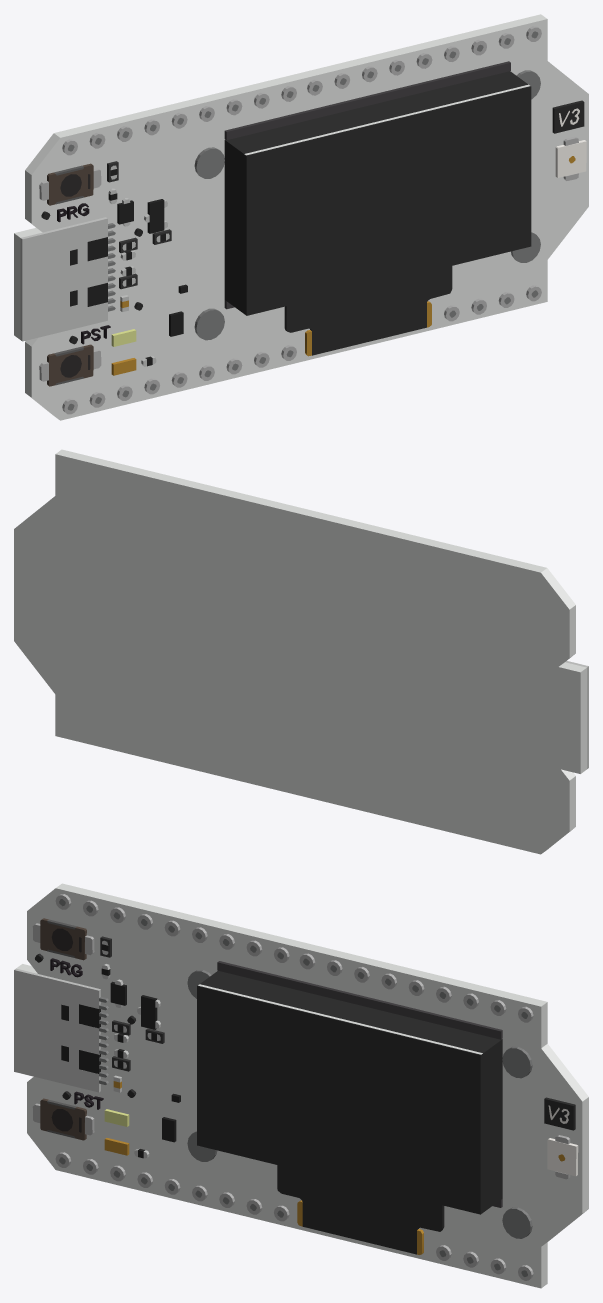
File: heltec-v3.glb
The picture shows the model from 3 angles, top to bottom: view 1: azimuth 30°, elevation 25°; view 2: azimuth 150°, elevation 25°; view 3: azimuth 330°, elevation 25°; orthographic projection.
Visible parts, largest first — view 1: Body, Screen, Face_2b2b2b, Face_cbcccb, Display, Face_b7b7b7, Face_808181, Face_434143, Face_232323, Face_574841, Face_fdfaf5, Face_2d2c2b (+4 smaller); view 2: Body; view 3: Body, Screen, Face_2b2b2b, Face_cbcccb, Display, Face_b7b7b7, Face_808181, Face_434143, Face_232323, Face_574841, Face_fdfaf5, Face_2d2c2b (+4 smaller).
Part boxes in pixels (<box>): Body: <box>14,14,588,420</box>; Screen: <box>246,86,531,315</box>; Face_2b2b2b: <box>41,100,584,355</box>; Face_cbcccb: <box>20,165,169,366</box>; Display: <box>224,71,527,313</box>; Face_b7b7b7: <box>39,26,578,414</box>; Face_808181: <box>67,31,540,410</box>; Face_434143: <box>224,61,510,309</box>; Face_232323: <box>70,169,187,366</box>; Face_574841: <box>47,163,93,386</box>; Face_fdfaf5: <box>555,108,586,177</box>; Face_2d2c2b: <box>60,174,90,377</box>; Body: <box>14,449,586,854</box>; Body: <box>16,883,588,1288</box>; Screen: <box>197,985,481,1214</box>; Face_2b2b2b: <box>35,953,575,1254</box>; Face_cbcccb: <box>14,940,160,1158</box>; Display: <box>200,970,502,1212</box>; Face_b7b7b7: <box>32,894,570,1280</box>; Face_808181: <box>59,899,532,1276</box>; Face_434143: <box>217,961,502,1207</box>; Face_232323: <box>61,944,180,1158</box>; Face_574841: <box>40,918,86,1140</box>; Face_fdfaf5: <box>547,1105,578,1176</box>; Face_2d2c2b: <box>51,928,81,1132</box>.
Bounding box in the file's own units: 0.0502 × 0.0239 × 0.0044.
